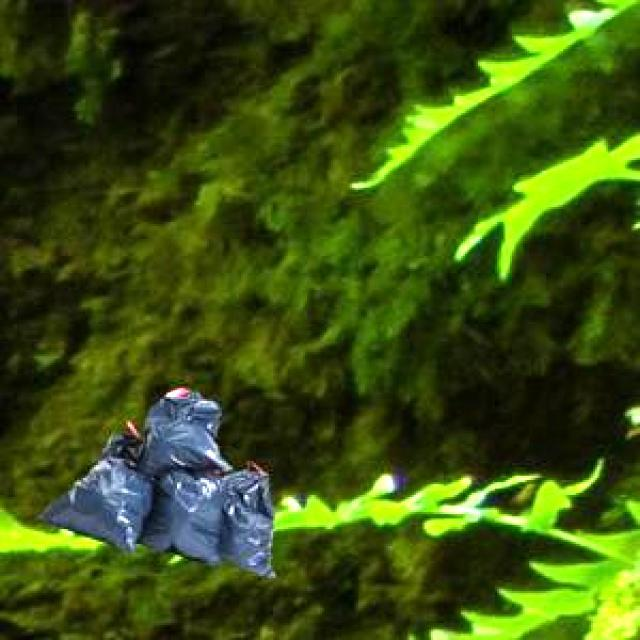Garbage_Bag: (35, 385, 272, 575)
